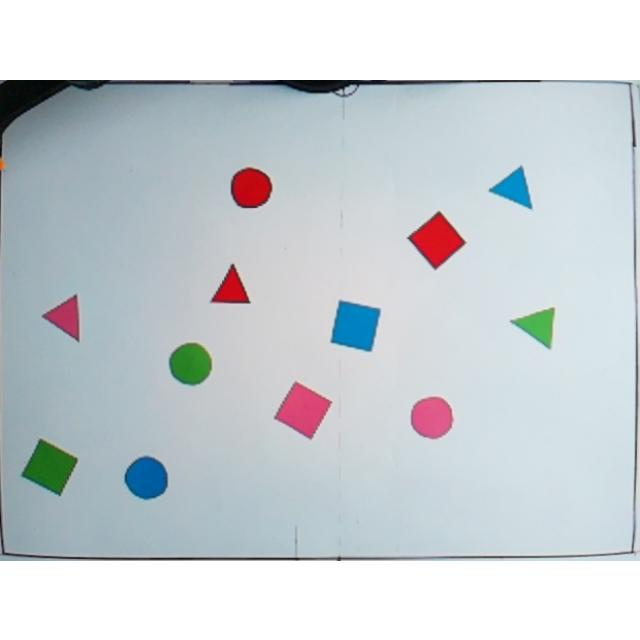blueCircle: (124, 452, 170, 501)
blueSquare: (330, 297, 380, 353)
blueTriangle: (488, 164, 536, 210)
greenCircle: (169, 340, 213, 386)
greenSquare: (20, 435, 80, 497)
greenTriangle: (509, 304, 558, 348)
pinkCircle: (408, 394, 456, 438)
pinkSquare: (272, 378, 334, 439)
pinkTriangle: (42, 290, 82, 342)
redCircle: (228, 166, 274, 212)
redSquare: (404, 210, 468, 270)
redTriangle: (208, 260, 252, 306)
